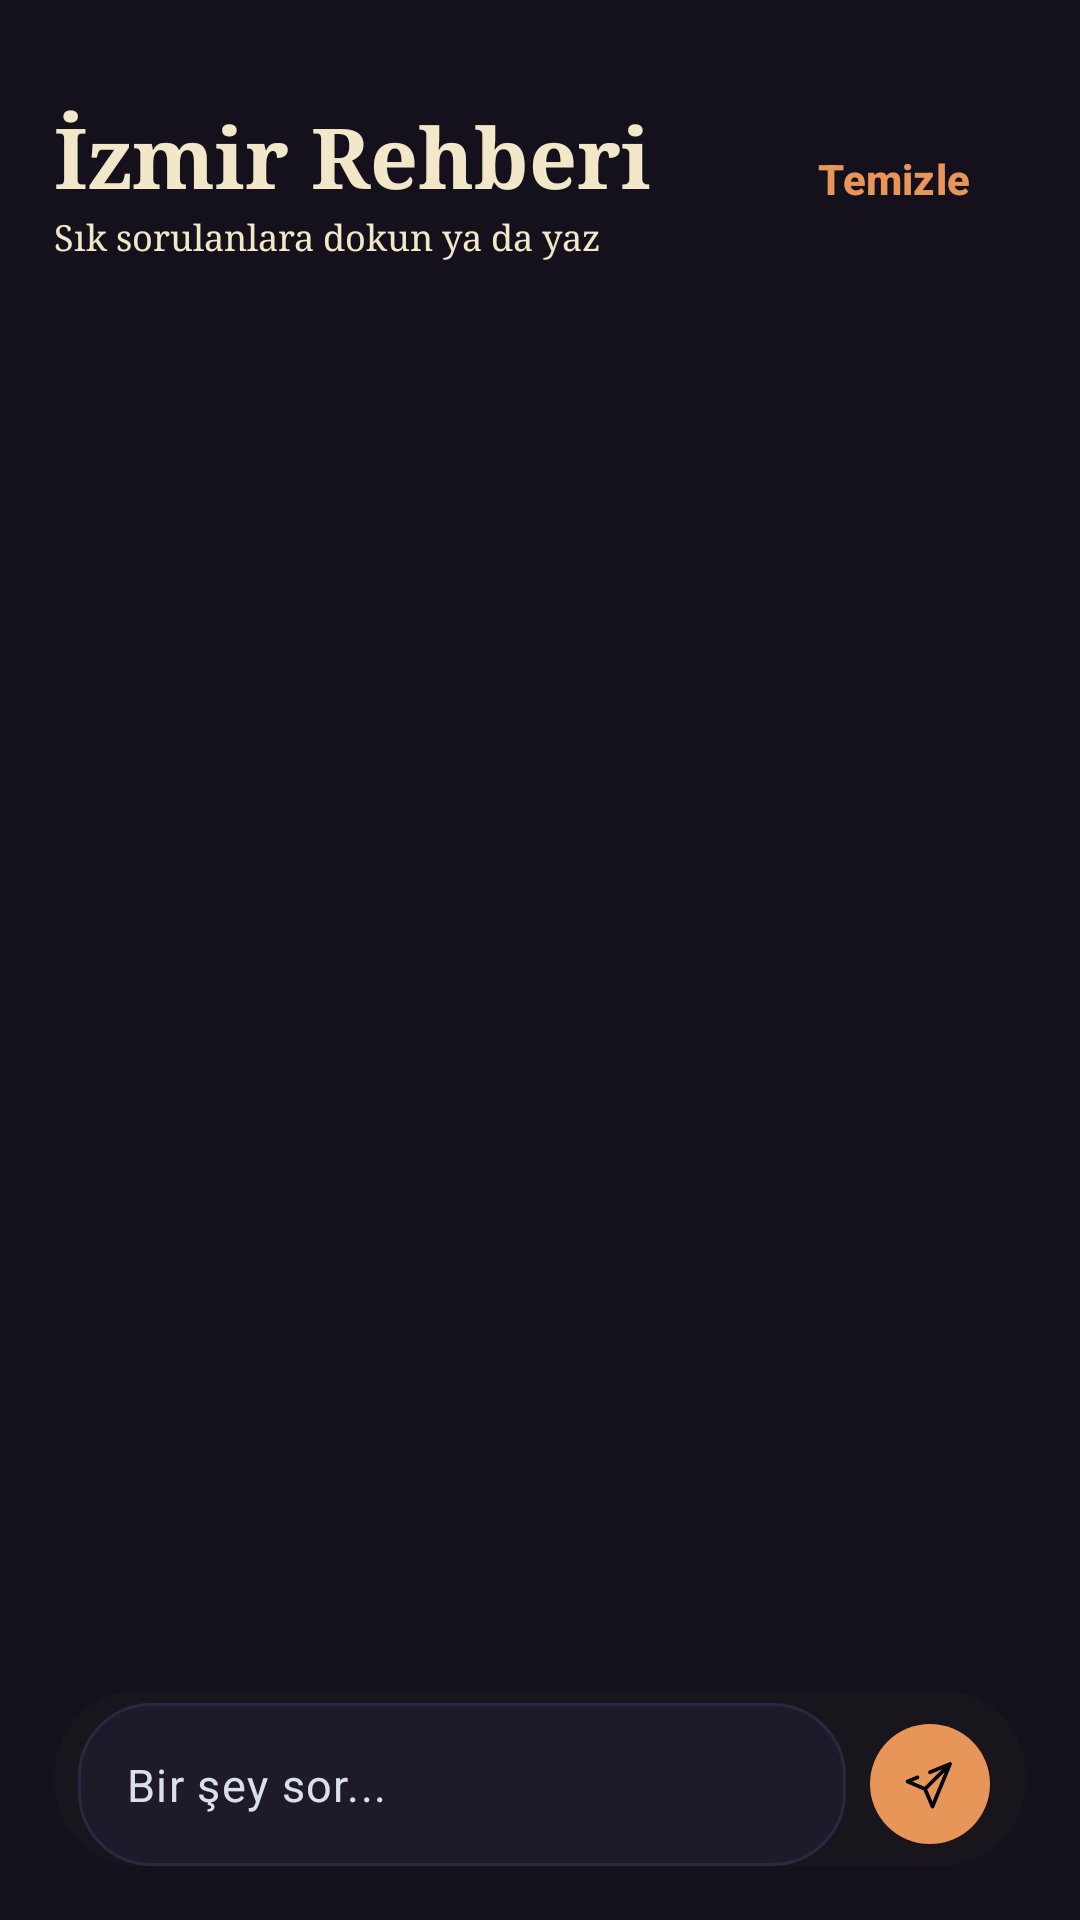

Icons on this 1080 x 1920 Android screen, each with its box as (x1, y1, x2, y2):
Gönder butonu: (870, 1724, 990, 1844)
